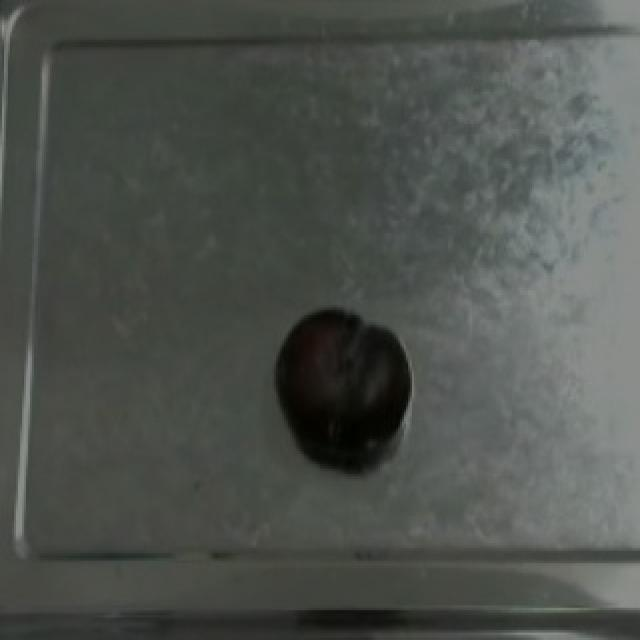Fruit: (270, 305, 412, 459)
